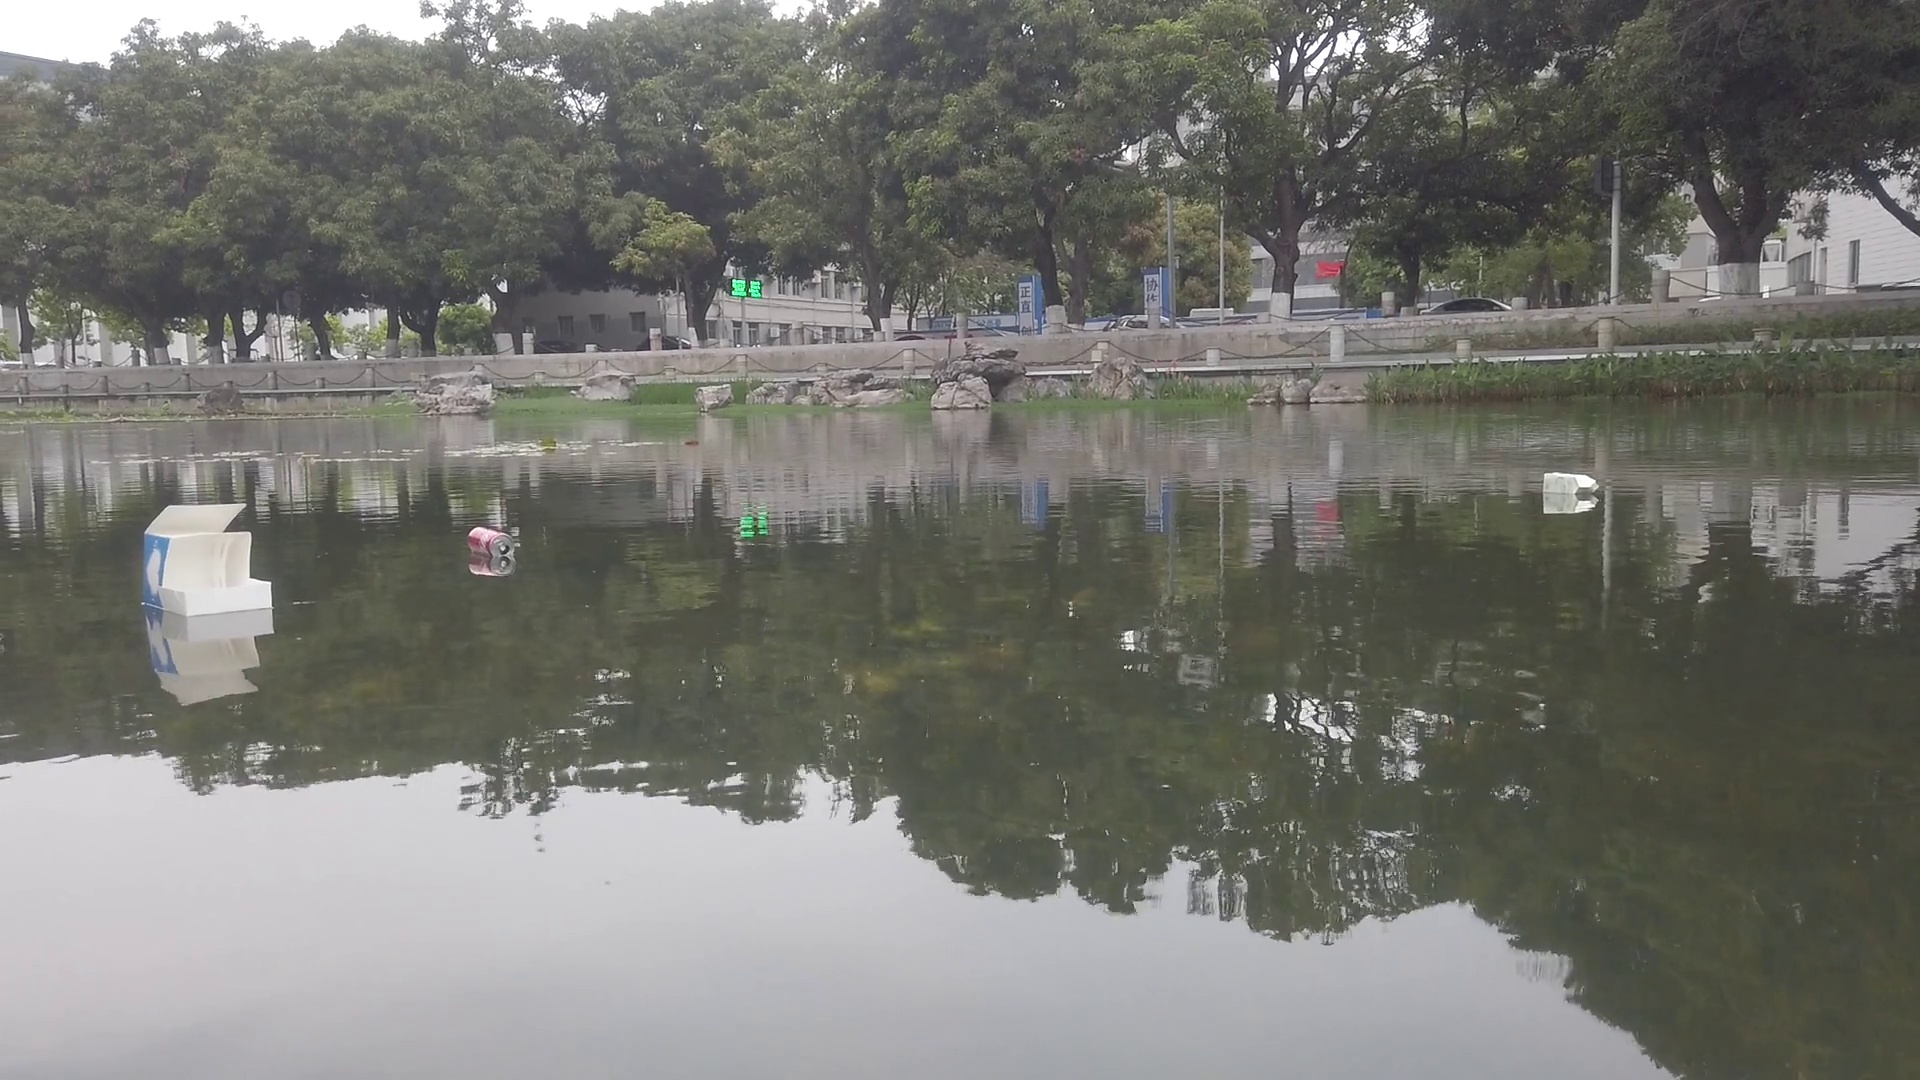bottle: (465, 524, 520, 560)
carton: (137, 501, 278, 618), (1545, 471, 1606, 498)
